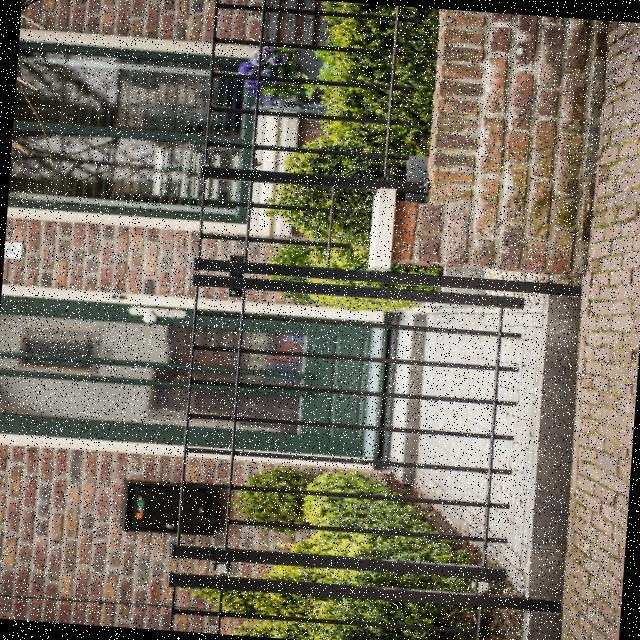fence line: (157, 255, 578, 639), (175, 0, 436, 305)
